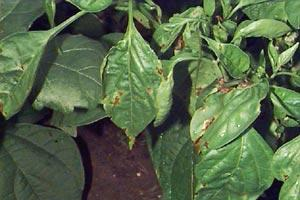Bell_pepper leaf: (93, 31, 163, 152), (185, 76, 272, 159), (1, 30, 60, 119)
